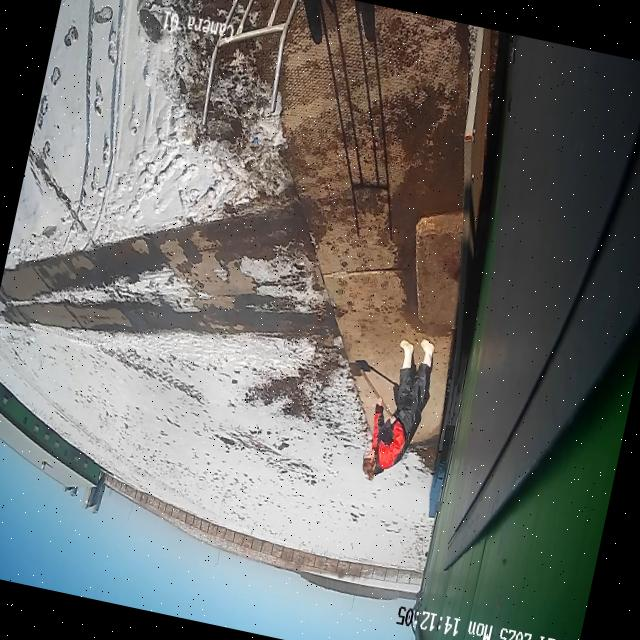Red uniform: (357, 328, 442, 491)
